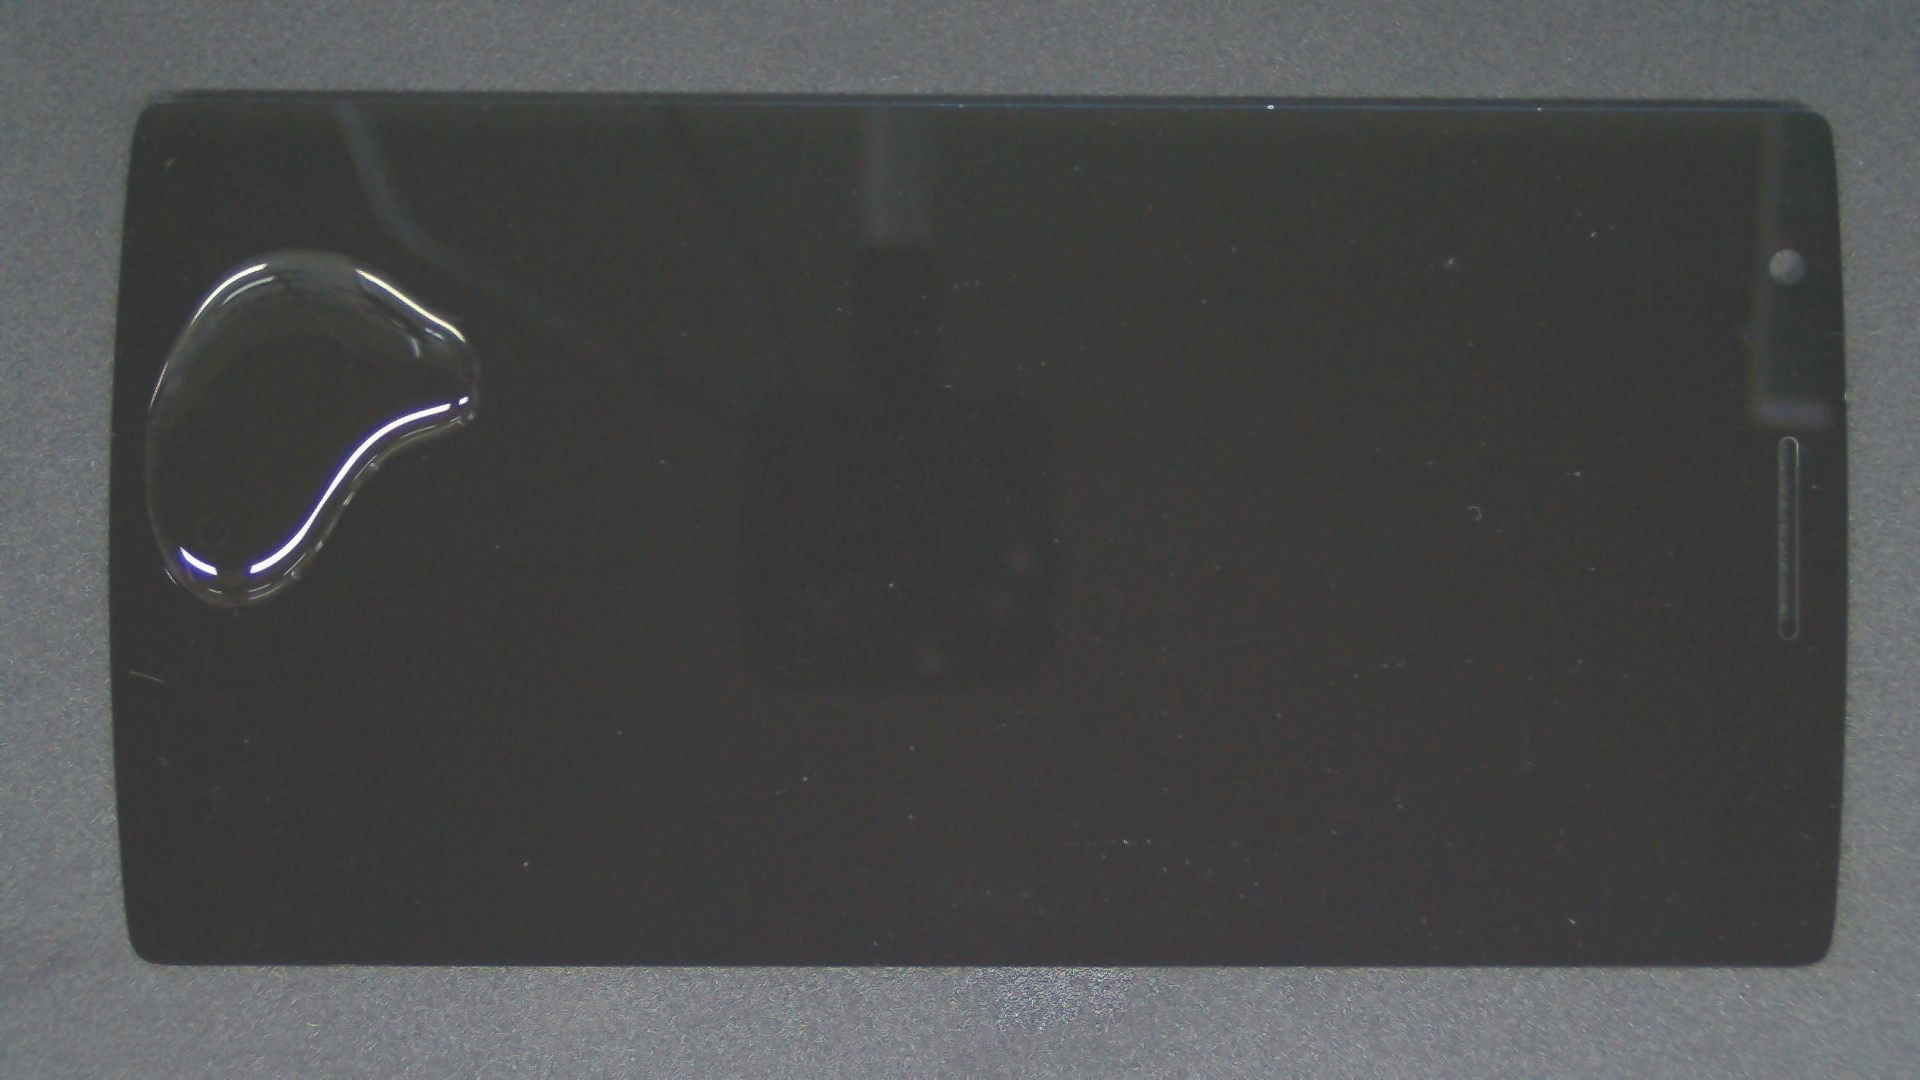oil: (154, 124, 462, 375)
